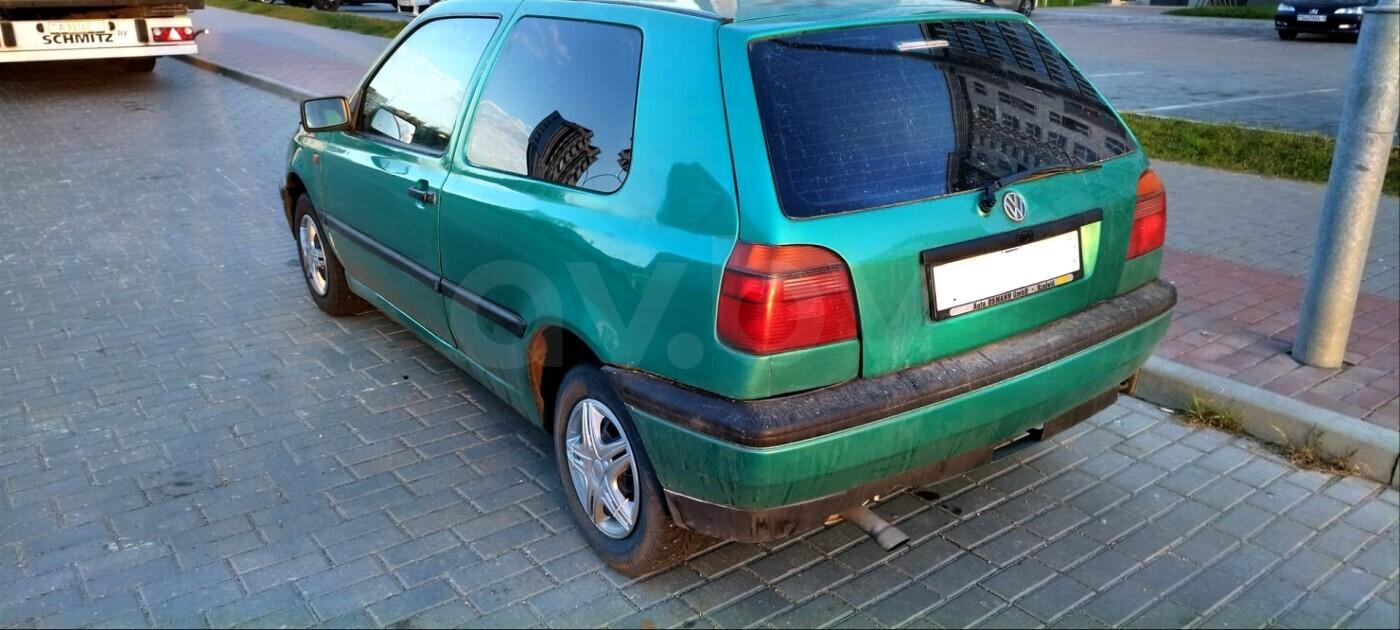Golf_1991-2000: (276, 0, 1191, 564)
